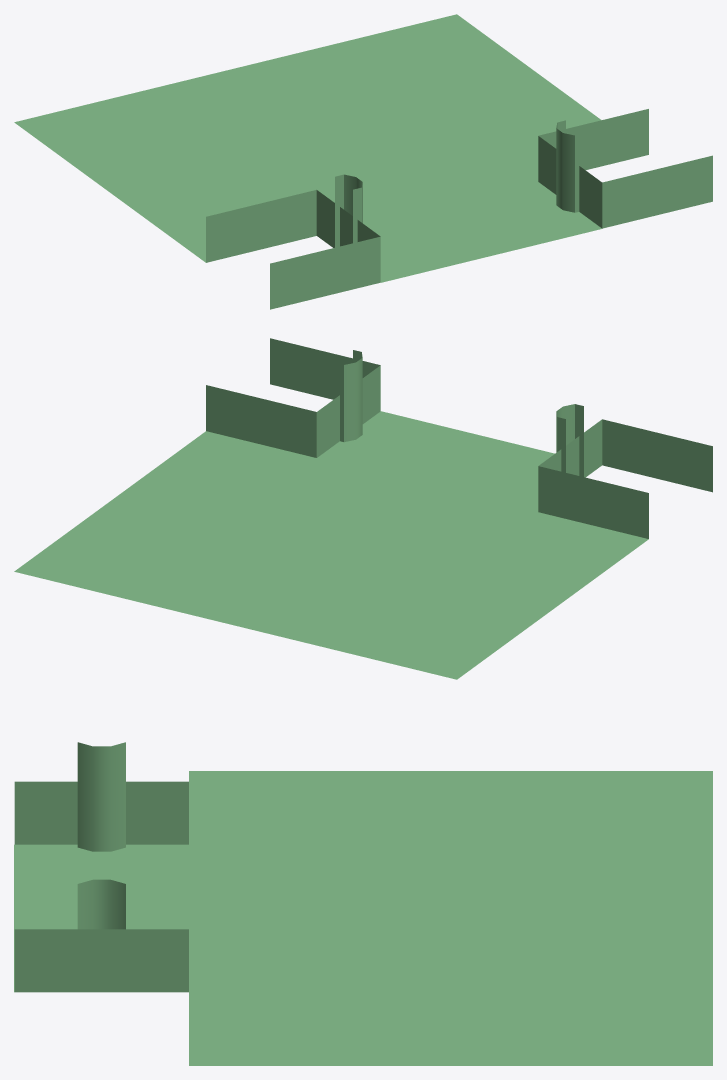
The model's file is Room_Door_16_A_COL.fbx.
3 views of the same model, one above another, from view 1: azimuth 30°, elevation 25°; view 2: azimuth 150°, elevation 25°; view 3: azimuth 270°, elevation 25° (orthographic). The views are drawn at different scales.
Visible parts, largest first — view 1: Room_Door_16_A_COL; view 2: Room_Door_16_A_COL; view 3: Room_Door_16_A_COL.
Part boxes in pixels (bbox=[...]): Room_Door_16_A_COL: bbox=[14, 14, 712, 309]; Room_Door_16_A_COL: bbox=[14, 338, 712, 679]; Room_Door_16_A_COL: bbox=[14, 742, 712, 1065].
Size of the model in its own units: 1600 by 267 by 1603.
